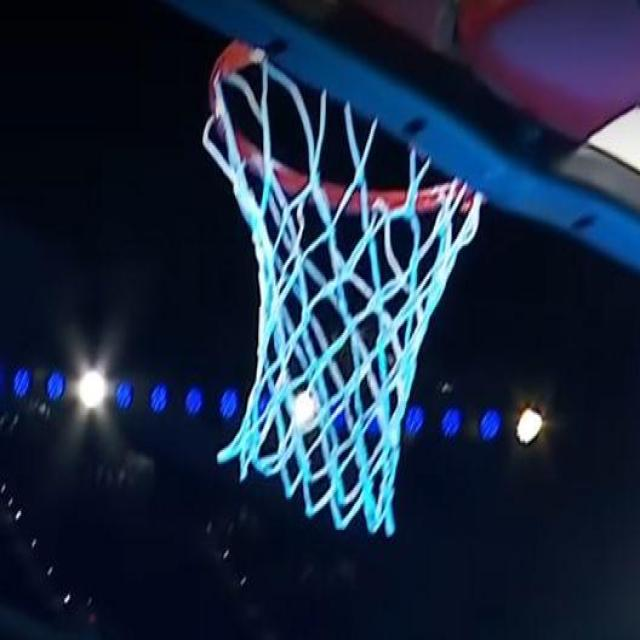hoop: (190, 56, 510, 539)
